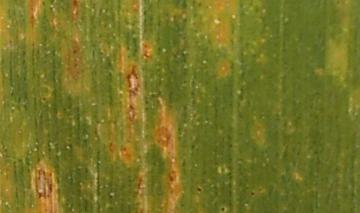tarspot: (194, 184, 206, 193), (217, 206, 228, 213), (40, 95, 48, 103), (70, 49, 79, 56), (247, 191, 257, 197)
